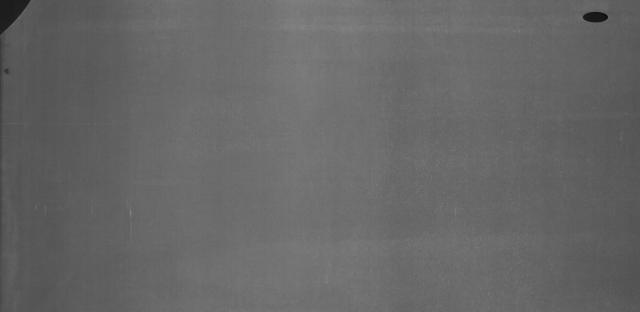crescent_gap: (1, 1, 36, 37)
punching_hole: (578, 7, 612, 26)
